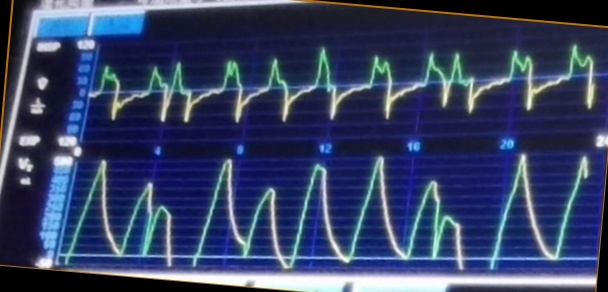Double_Triggering Flow: (99, 41, 603, 129)
Double_Triggering Volume: (85, 152, 591, 270)
